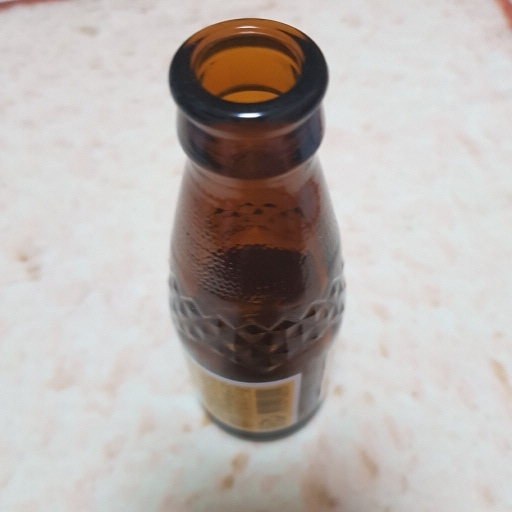Glass_3: (164, 15, 349, 434)
